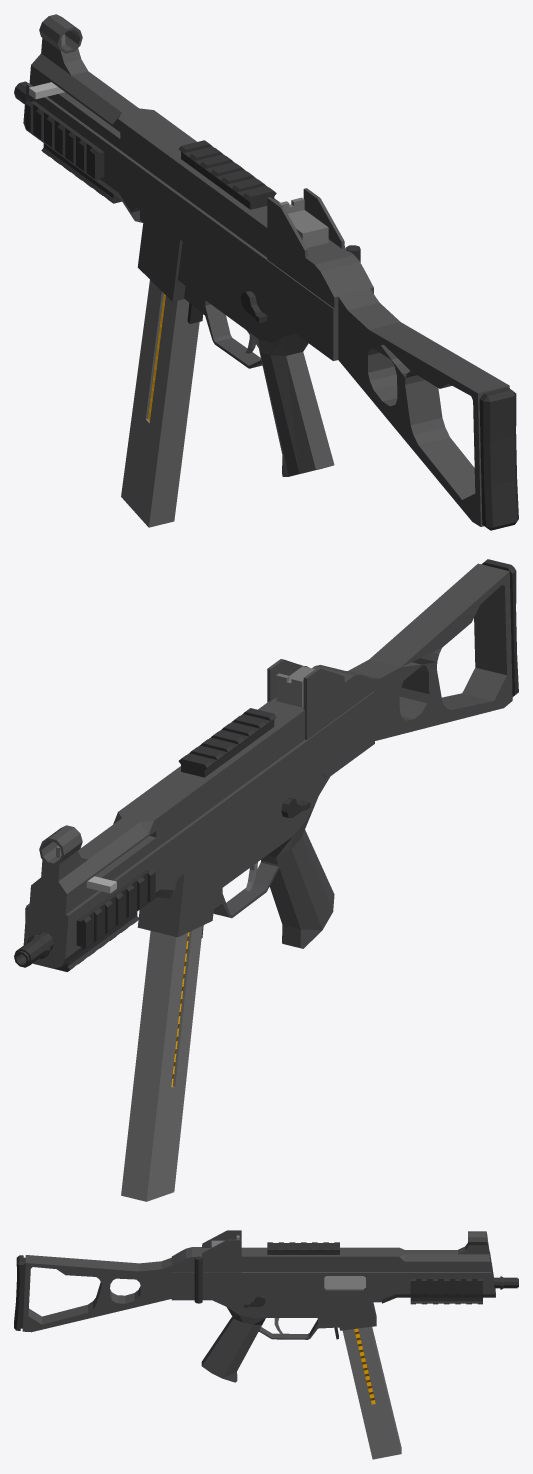
Rendered from UMP45.fbx.
The picture shows the model from 3 angles, top to bottom: view 1: azimuth 30°, elevation 25°; view 2: azimuth 150°, elevation 25°; view 3: azimuth 270°, elevation 25°; orthographic projection. The views are drawn at different scales.
Parts seen in each view (by area): view 1: UMP45, Magazn; view 2: UMP45, Magazn; view 3: UMP45, Magazn, Bolt.
Boxes of the visible parts, x1,y1,x2,y2 form: UMP45: (14,14,518,530); Magazn: (121,280,199,527); UMP45: (14,559,518,971); Magazn: (121,925,202,1201); UMP45: (14,1230,518,1382); Magazn: (342,1327,401,1459); Bolt: (324,1276,365,1289).
Bounding box in the file's own units: 6.72 × 38.1 × 77.75.
1 material, 1 textured.
